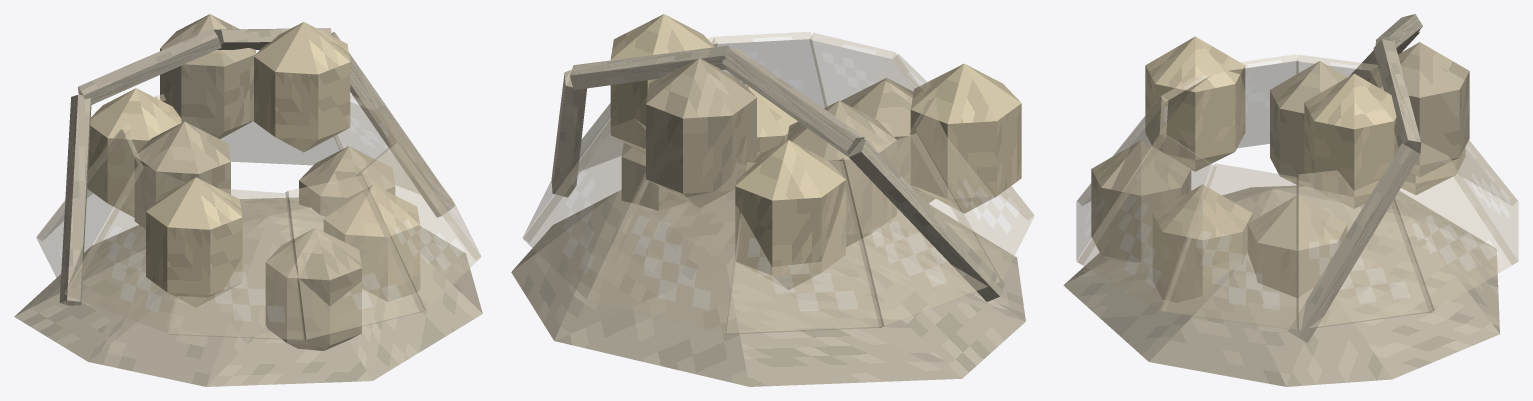
File: f_egg_sackcs.glb
3 views of the same model, side by side, from view 1: azimuth 30°, elevation 25°; view 2: azimuth 150°, elevation 25°; view 3: azimuth 270°, elevation 25° (orthographic). The views are drawn at different scales.
Visible parts, largest first — view 1: block_round-off-white-egg (×8), block_draped-translucent-silk-membrane (×9), block_silken-egg-nest, block_bundling-silk-strand-1 (×2), block_bundling-silk-strand-2 (×2); view 2: block_draped-translucent-silk-membrane (×10), block_silken-egg-nest, block_round-off-white-egg (×8), block_bundling-silk-strand-1 (×2), block_bundling-silk-strand-2 (×2); view 3: block_draped-translucent-silk-membrane (×10), block_round-off-white-egg (×8), block_silken-egg-nest, block_bundling-silk-strand-1 (×2), block_bundling-silk-strand-2 (×2).
Boxes of the visible parts, bbox=[...] form: block_round-off-white-egg (×8): bbox=[87, 14, 420, 350]; block_draped-translucent-silk-membrane (×9): bbox=[36, 95, 481, 340]; block_silken-egg-nest: bbox=[14, 197, 482, 386]; block_bundling-silk-strand-1 (×2): bbox=[59, 32, 454, 305]; block_bundling-silk-strand-2 (×2): bbox=[78, 28, 331, 104]; block_draped-translucent-silk-membrane (×10): bbox=[522, 31, 1034, 334]; block_silken-egg-nest: bbox=[511, 189, 1025, 386]; block_round-off-white-egg (×8): bbox=[610, 14, 1021, 289]; block_bundling-silk-strand-1 (×2): bbox=[551, 70, 1004, 301]; block_bundling-silk-strand-2 (×2): bbox=[569, 45, 864, 157]; block_draped-translucent-silk-membrane (×10): bbox=[1076, 54, 1518, 329]; block_round-off-white-egg (×8): bbox=[1091, 36, 1469, 302]; block_silken-egg-nest: bbox=[1063, 185, 1499, 386]; block_bundling-silk-strand-1 (×2): bbox=[1288, 15, 1420, 342]; block_bundling-silk-strand-2 (×2): bbox=[1373, 14, 1422, 153].
Size of the model in its own units: 0.5535 by 0.3131 by 0.521.
Materials: 2 (2 with a texture image).
